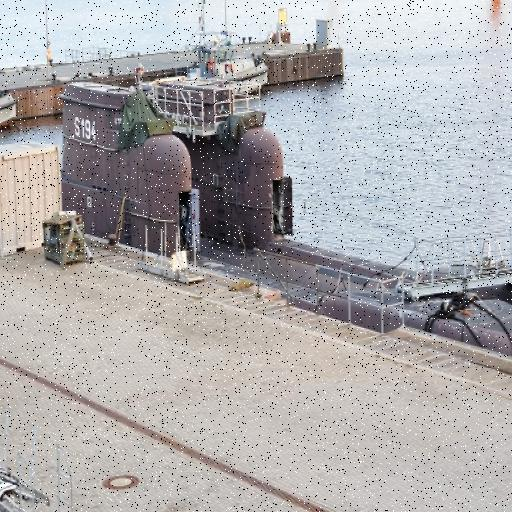submarine: (23, 82, 512, 366), (157, 80, 512, 374)
